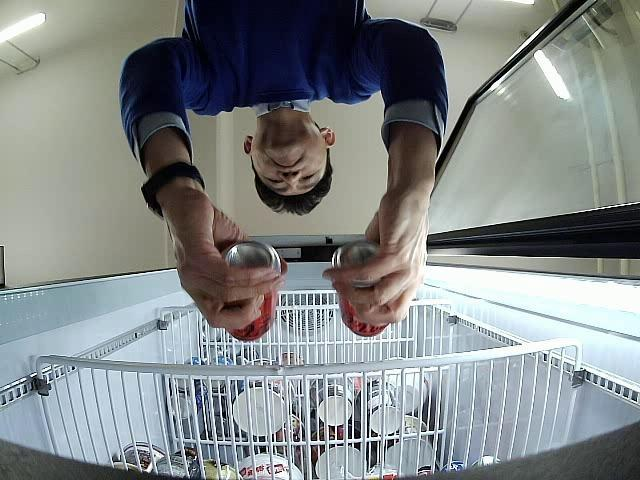11_cocaColaZero: (220, 239, 282, 342), (332, 240, 388, 337)
